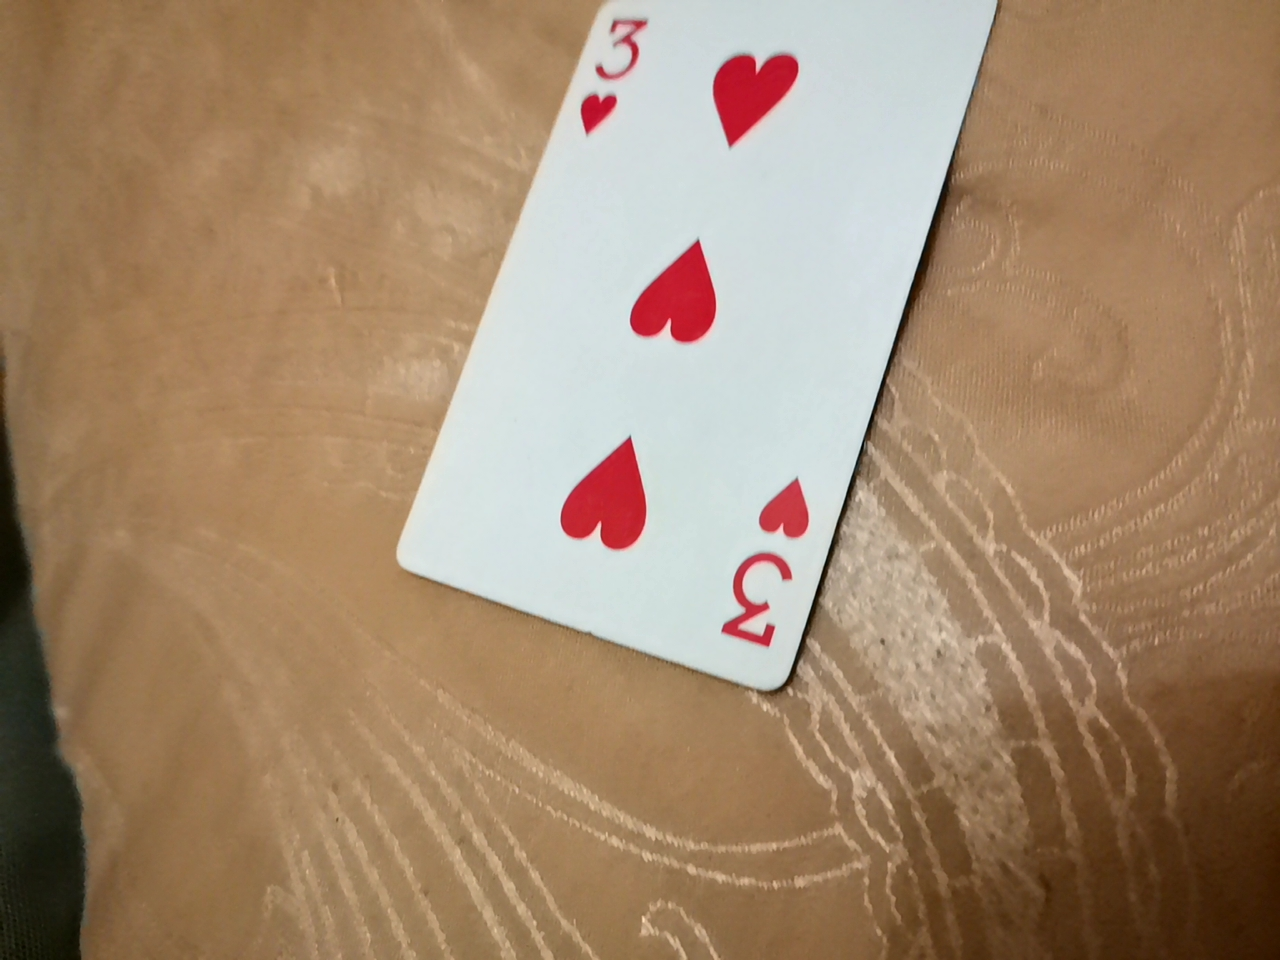hx 3: (381, 31, 974, 762)
